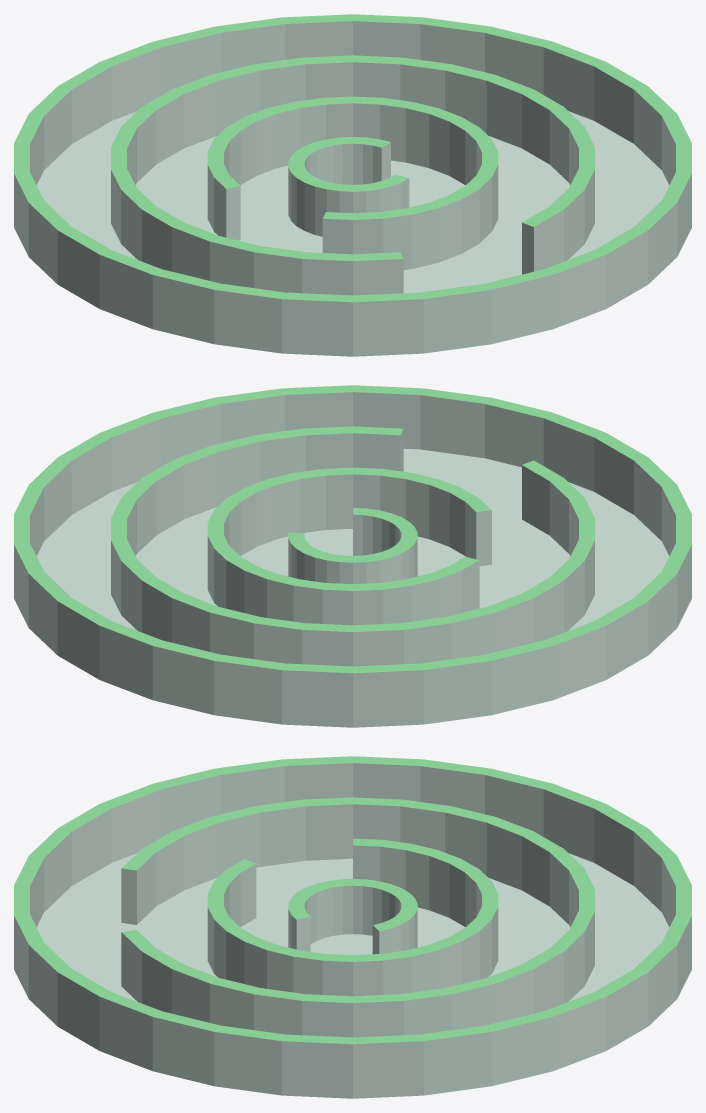
The model's file is Maze Level 1 son son.fbx.
3 renders of one model, top to bottom at view 1: azimuth 30°, elevation 25°; view 2: azimuth 150°, elevation 25°; view 3: azimuth 270°, elevation 25°, orthographic.
Parts seen in each view (by area): view 1: Vert; view 2: Vert; view 3: Vert.
Part boxes in pixels (box(x1,y1,x2,y2)): Vert: box(14, 14, 691, 356); Vert: box(14, 385, 691, 727); Vert: box(14, 756, 691, 1098).
Bounding box in the file's own units: 397 × 35 × 395.
